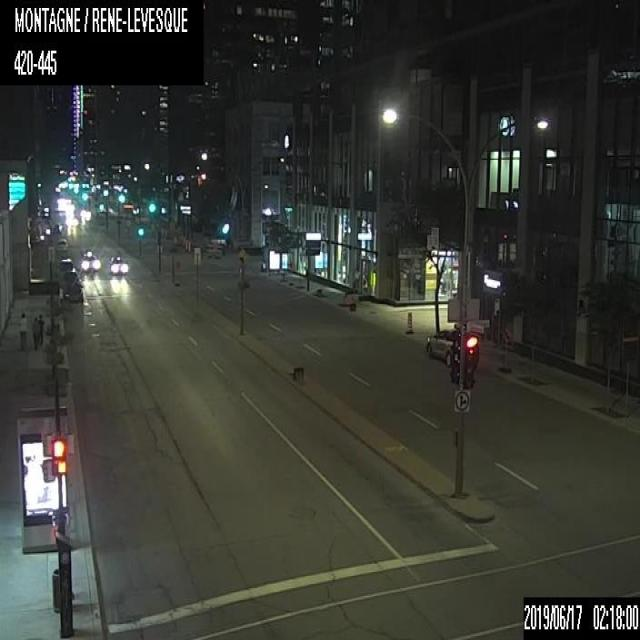construction: (286, 364, 304, 384), (404, 308, 414, 333), (348, 294, 357, 310)
pedestrian: (31, 311, 44, 352), (18, 310, 28, 350)
vehicle: (424, 326, 477, 366), (59, 269, 83, 304), (107, 253, 128, 276), (78, 250, 99, 270), (56, 236, 66, 252)
